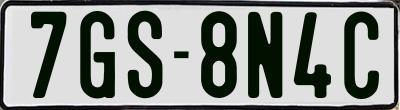4: (293, 12, 335, 99)
7: (30, 11, 70, 103)
8: (199, 10, 235, 100)
C: (342, 11, 382, 105)
G: (77, 9, 113, 99)
N: (246, 11, 286, 97)
S: (126, 8, 162, 101)
